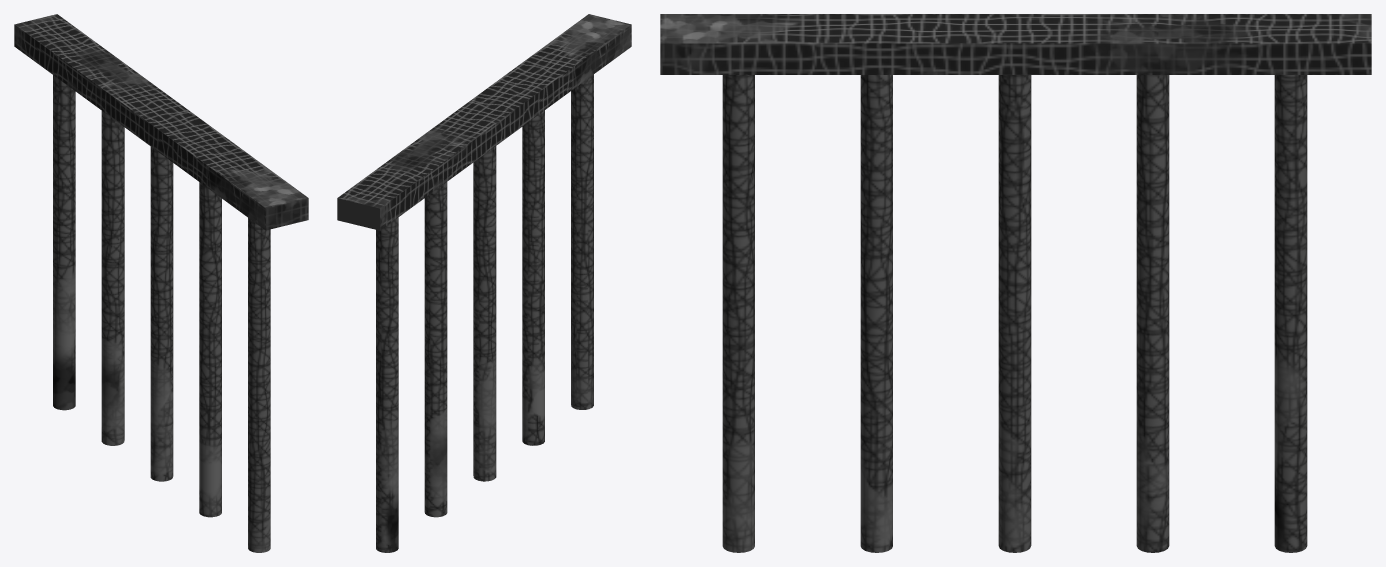
Rendered from FenceSmall.fbx.
The picture shows the model from 3 angles, left to right: view 1: azimuth 30°, elevation 25°; view 2: azimuth 150°, elevation 25°; view 3: azimuth 270°, elevation 25°; orthographic projection. The views are drawn at different scales.
Visible parts, largest first — view 1: Fence.002; view 2: Fence.002; view 3: Fence.002.
Boxes of the visible parts, x1,y1,x2,y2 form: Fence.002: [14, 14, 308, 552]; Fence.002: [337, 14, 631, 552]; Fence.002: [660, 14, 1371, 552].
Bounding box in the file's own units: 9.85 × 80.39 × 100.
